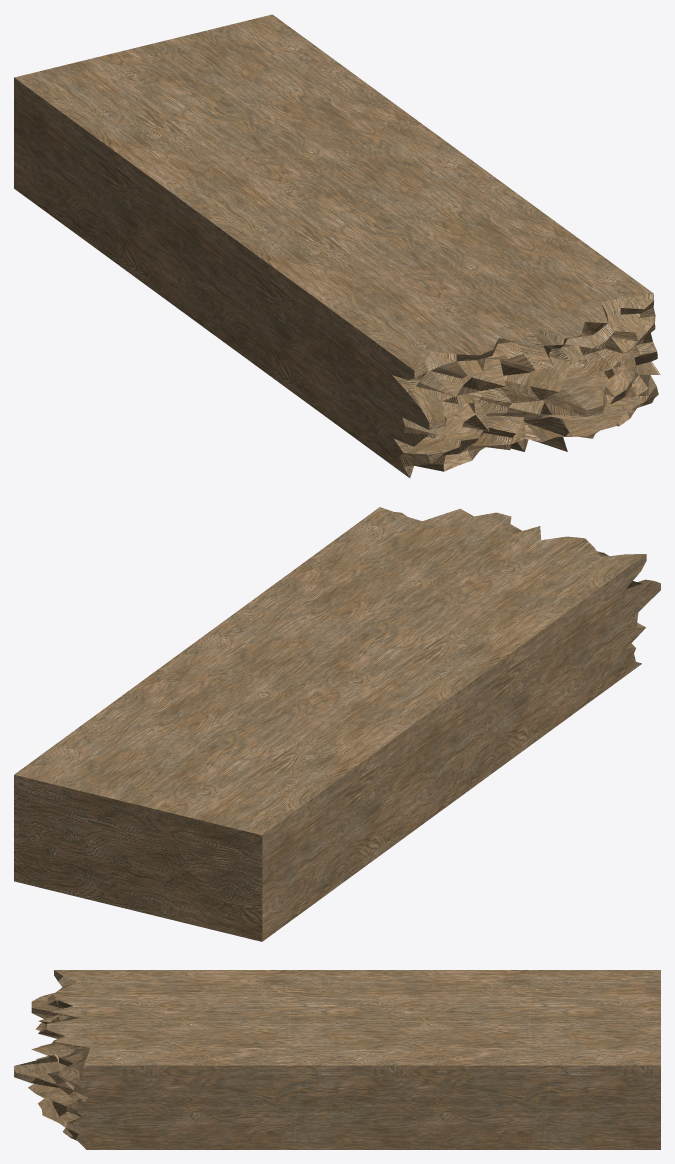
File: Plank.fbx
The picture shows the model from 3 angles, top to bottom: view 1: azimuth 30°, elevation 25°; view 2: azimuth 150°, elevation 25°; view 3: azimuth 270°, elevation 25°; orthographic projection. The views are drawn at different scales.
Visible parts, largest first — view 1: Cube; view 2: Cube; view 3: Cube.
Boxes of the visible parts, bbox=[...] form: Cube: bbox=[14, 14, 660, 477]; Cube: bbox=[14, 507, 660, 941]; Cube: bbox=[14, 970, 660, 1149].
Size of the model in its own units: 200 by 82.07 by 572.
